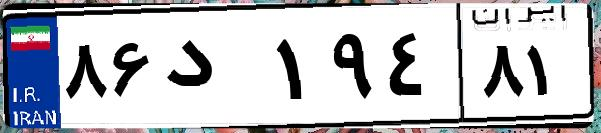1: (270, 28, 330, 110), (525, 38, 570, 115)
4: (385, 28, 445, 110)
6: (110, 28, 158, 98)
8: (57, 26, 110, 100), (475, 38, 525, 113)
9: (330, 28, 385, 110)
د: (158, 20, 270, 120)
